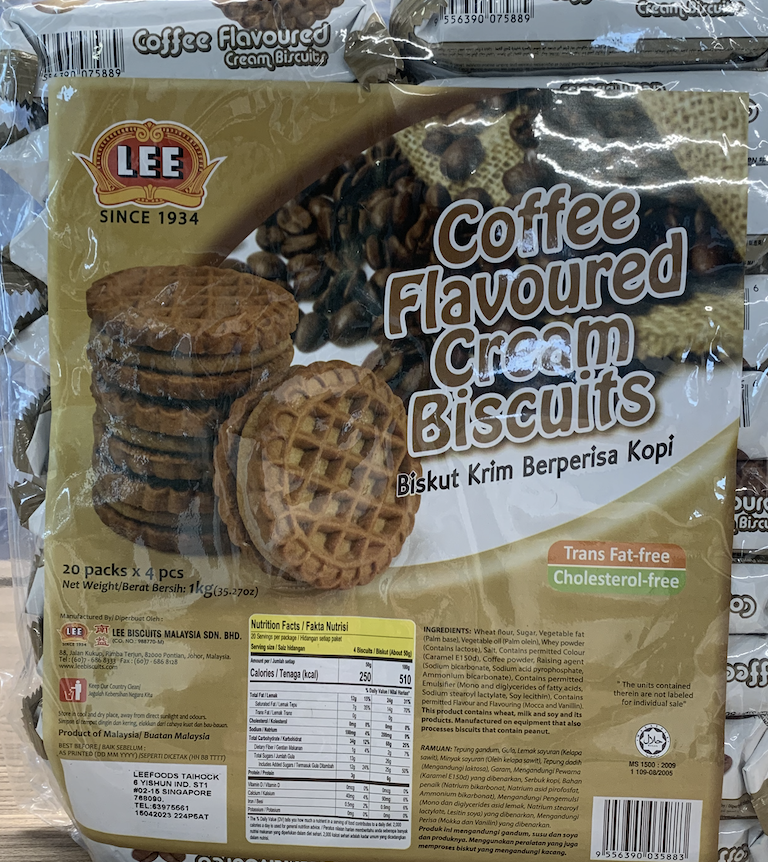cookies_1500g: (28, 24, 714, 846)
